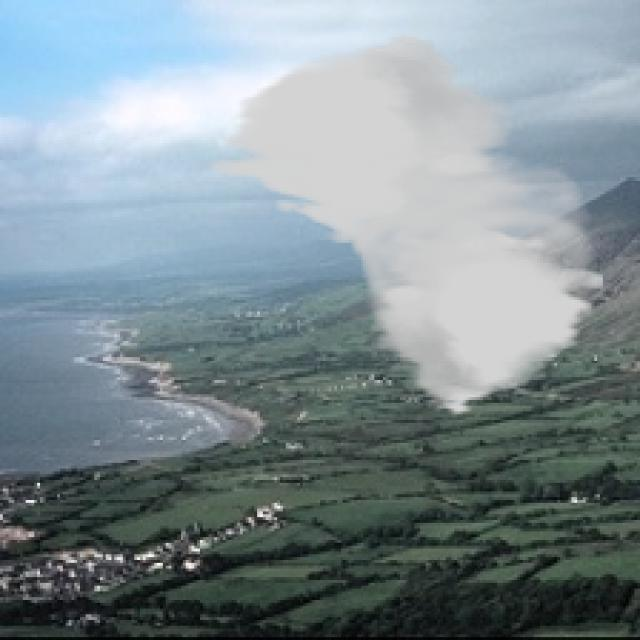Smoke: (211, 34, 606, 417)
